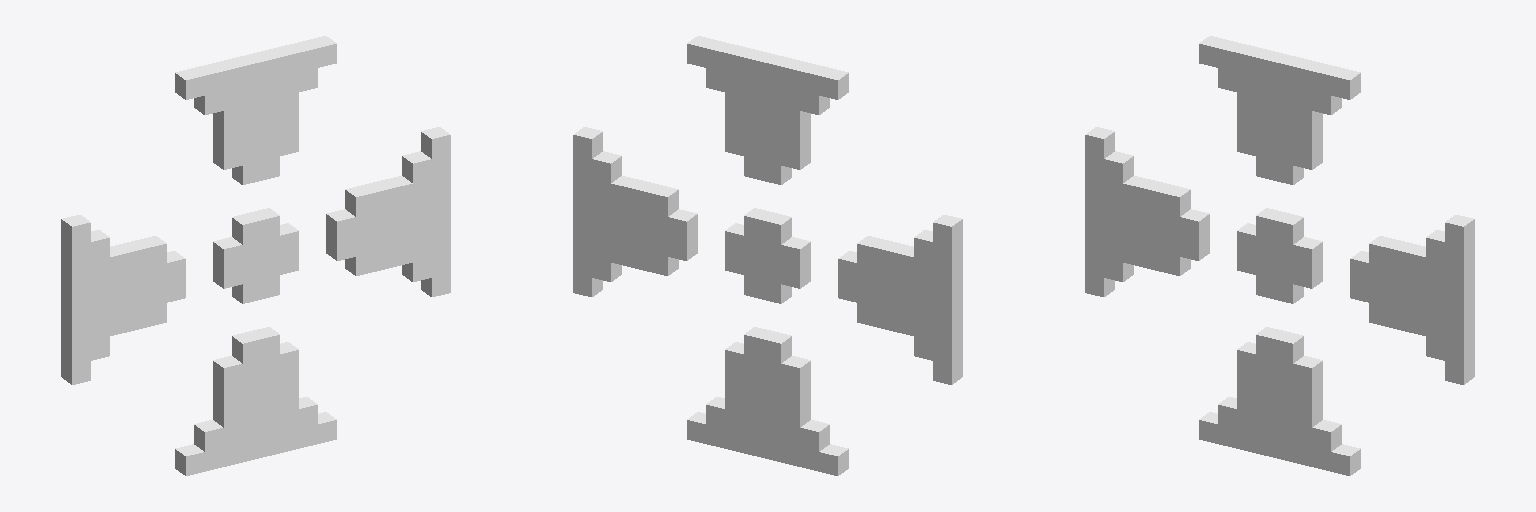
Rendered from MC_CrossHair.obj.
3 views of the same model, side by side, from view 1: azimuth 30°, elevation 25°; view 2: azimuth 150°, elevation 25°; view 3: azimuth 330°, elevation 25° (orthographic).
Visible parts, largest first — view 1: MC_CrossHair; view 2: MC_CrossHair; view 3: MC_CrossHair.
Part boxes in pixels (bbox=[...]): MC_CrossHair: bbox=[61, 36, 450, 475]; MC_CrossHair: bbox=[573, 36, 962, 475]; MC_CrossHair: bbox=[1085, 36, 1474, 475].
Bounding box in the file's own units: 20 × 20 × 1.